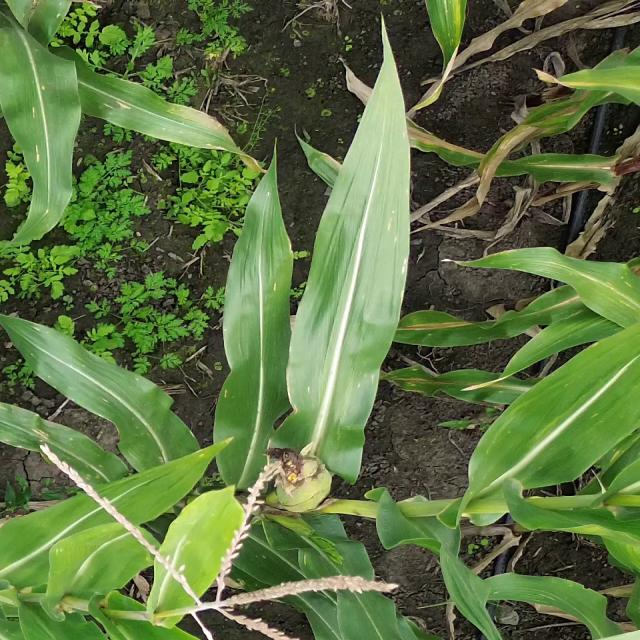gray-leaf-spot: (16, 85, 53, 163), (575, 266, 640, 310), (374, 207, 414, 276), (514, 585, 568, 605)
northern-leaf-blight: (421, 132, 517, 170), (516, 148, 616, 184), (410, 372, 527, 399), (405, 309, 479, 336)
southern-leaf-blight: (14, 417, 105, 472), (98, 391, 166, 441), (142, 102, 210, 149)
